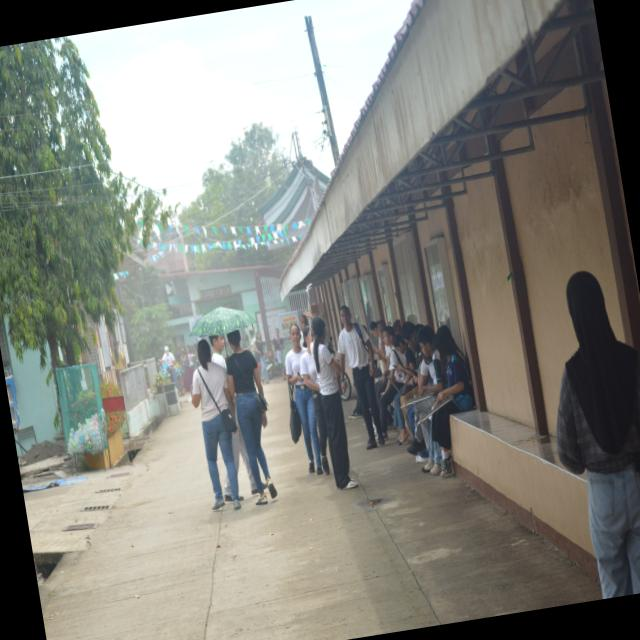person: (556, 272, 639, 598), (226, 330, 276, 505), (191, 340, 239, 510), (311, 316, 356, 490), (431, 326, 473, 477), (337, 306, 380, 449), (284, 324, 322, 474), (300, 326, 329, 474), (232, 426, 256, 495), (271, 329, 285, 380)
